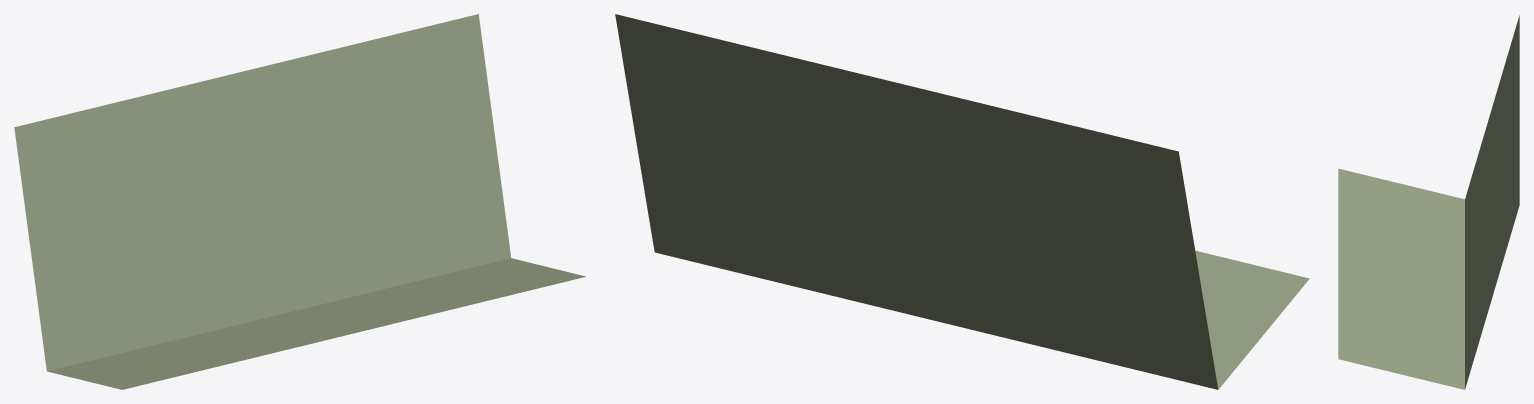
File: original-152.obj
3 renders of one model, left to right at view 1: azimuth 30°, elevation 25°; view 2: azimuth 150°, elevation 25°; view 3: azimuth 270°, elevation 25°, orthographic. The views are drawn at different scales.
Visible parts, largest first — view 1: mesh127/mesh127-geometry/material_0#mesh127-geometry; view 2: mesh127/mesh127-geometry/material_0#mesh127-geometry; view 3: mesh127/mesh127-geometry/material_0#mesh127-geometry.
Part boxes in pixels (bbox=[...]): mesh127/mesh127-geometry/material_0#mesh127-geometry: bbox=[14, 14, 585, 389]; mesh127/mesh127-geometry/material_0#mesh127-geometry: bbox=[615, 14, 1309, 389]; mesh127/mesh127-geometry/material_0#mesh127-geometry: bbox=[1338, 15, 1519, 389].
Bounding box in the file's own units: 0.00885 × 0.00401 × 0.00356.
